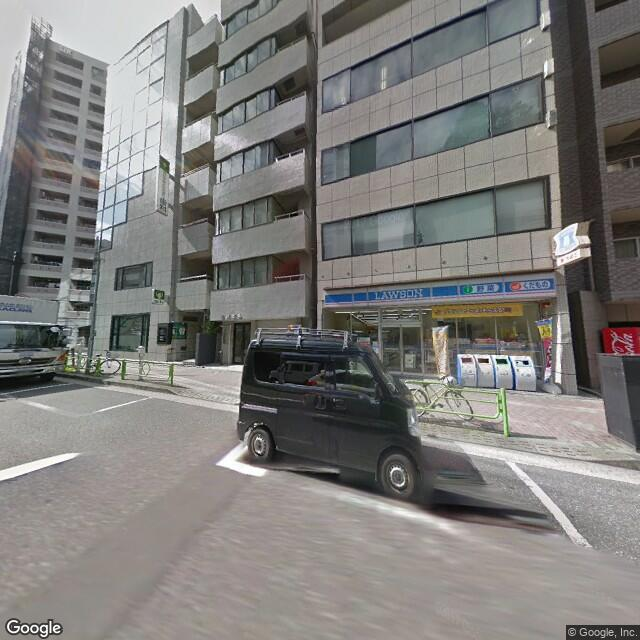lawson: (316, 273, 564, 305), (552, 219, 582, 258)
